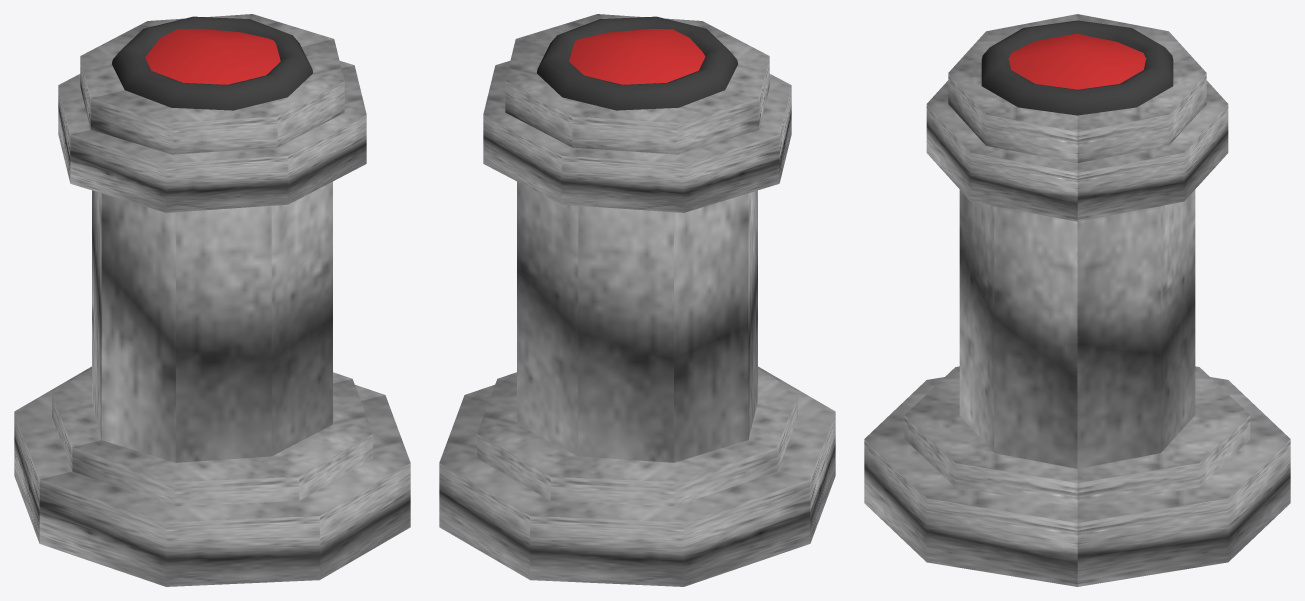
The model's file is BUTTON.glb.
The picture shows the model from 3 angles, left to right: view 1: azimuth 30°, elevation 25°; view 2: azimuth 150°, elevation 25°; view 3: azimuth 270°, elevation 25°; orthographic projection.
Parts seen in each view (by area): view 1: Cylinder.007; view 2: Cylinder.007; view 3: Cylinder.007.
Boxes of the visible parts, x1,y1,x2,y2 form: Cylinder.007: (14,14,410,586); Cylinder.007: (439,14,835,586); Cylinder.007: (864,14,1290,586).
Size of the model in its own units: 6.89 by 8.73 by 7.41.
3 materials, 3 textured.
